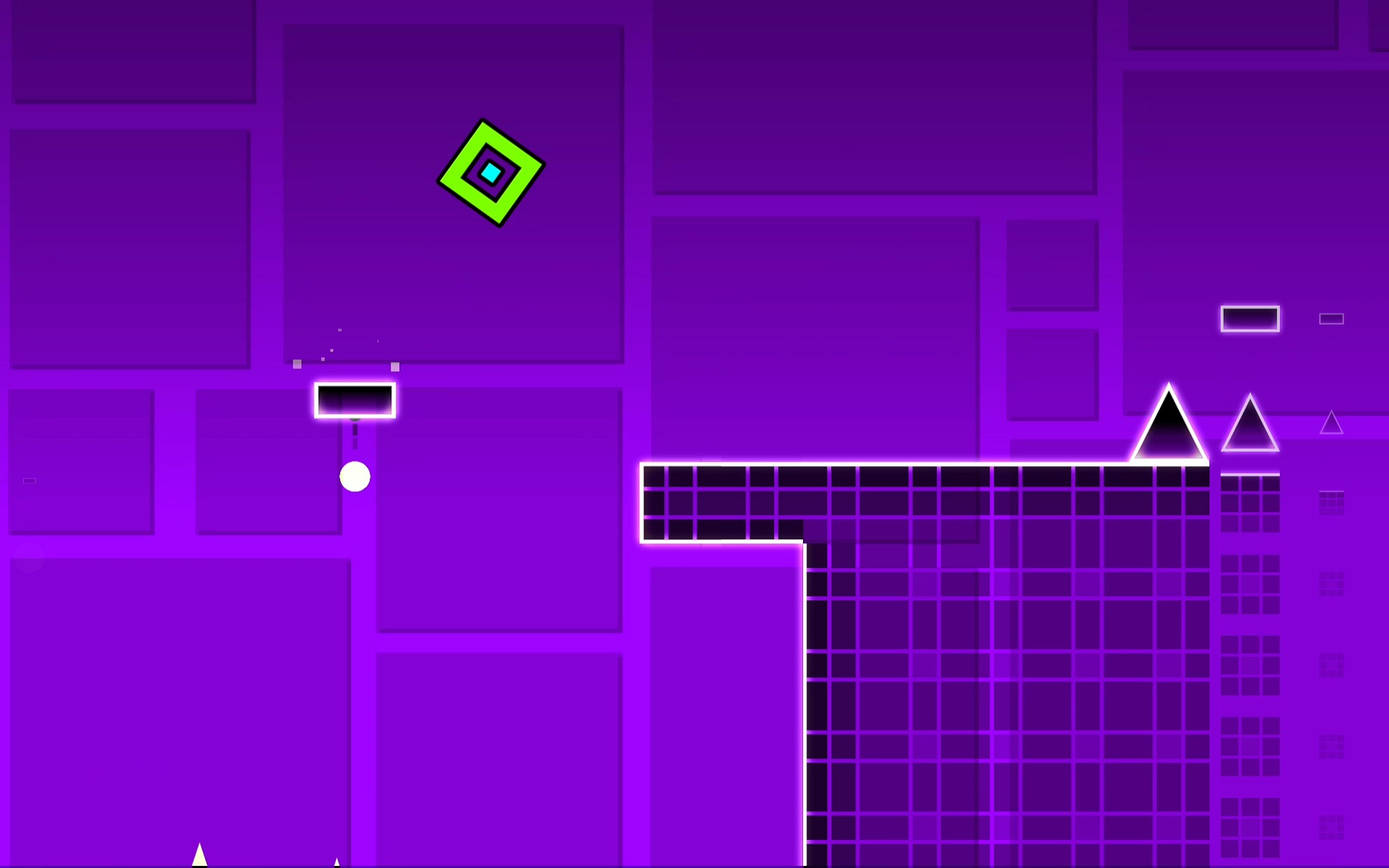Block2: (802, 459, 1299, 868), (643, 459, 803, 541)
Block3: (315, 382, 396, 419), (1221, 305, 1280, 332)
Player: (438, 118, 545, 226)
Spike: (1129, 383, 1208, 466), (1222, 394, 1279, 452)
